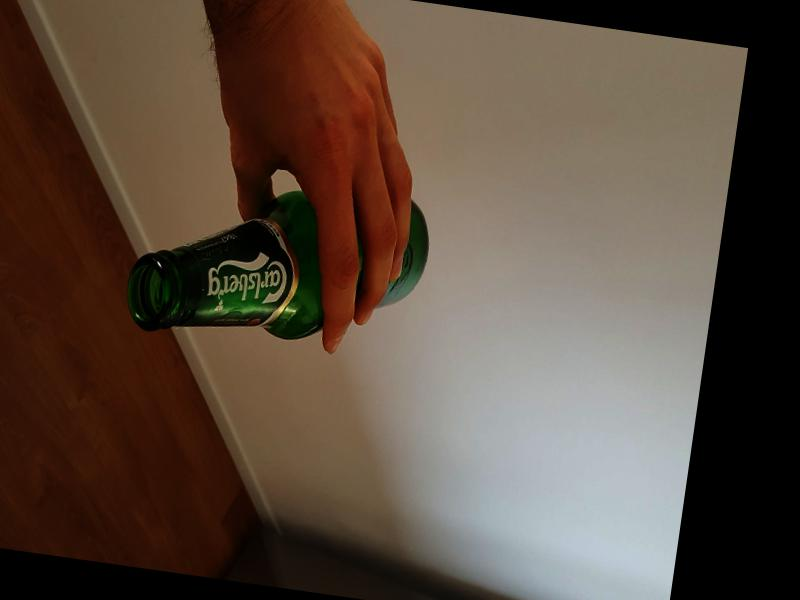Beer: (121, 168, 432, 366)
